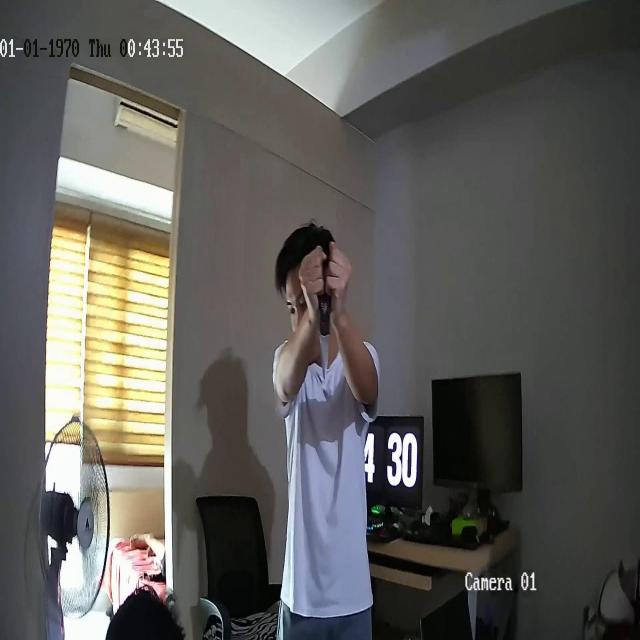scissor: (317, 262, 331, 378)
